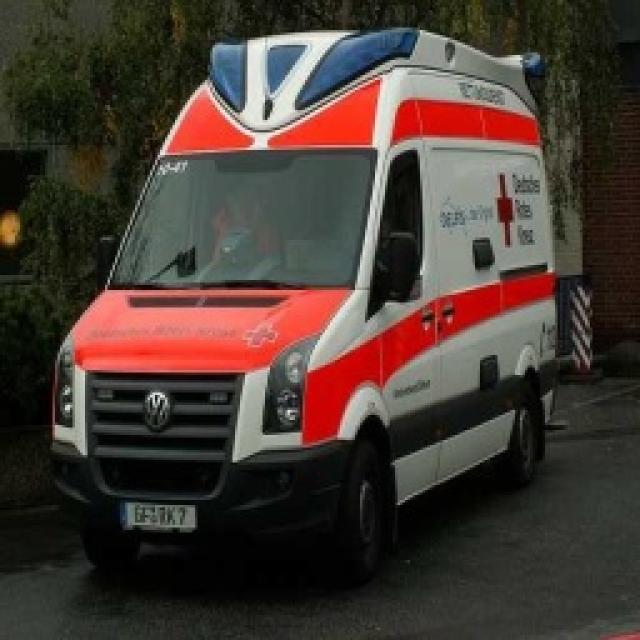ambulance: (50, 30, 572, 575)
